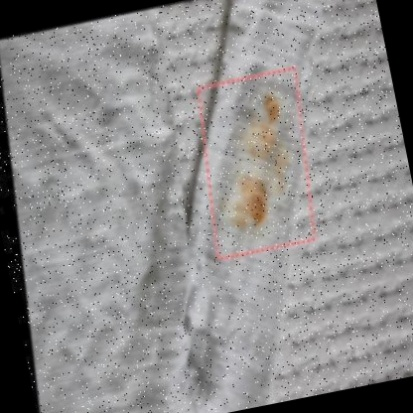kimchi: (203, 85, 304, 244)
